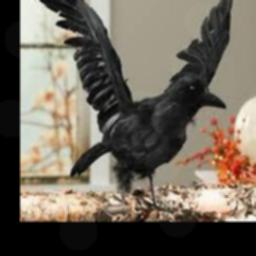Crow: (28, 0, 237, 207)
